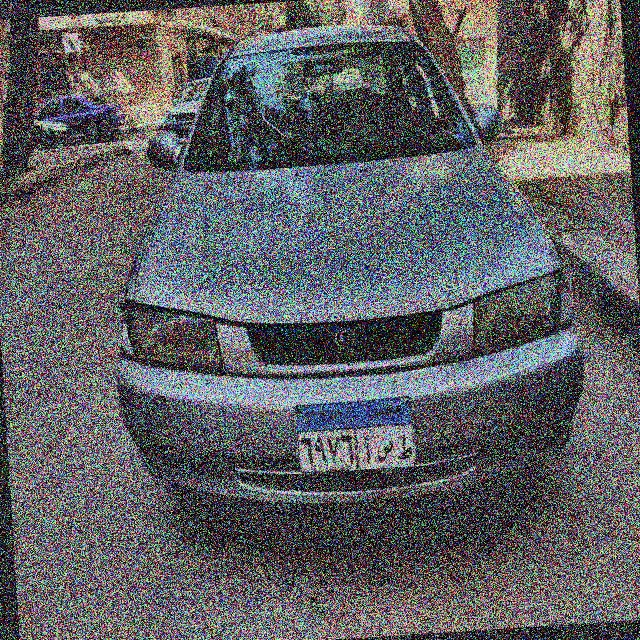License Plate: (292, 393, 418, 478)
